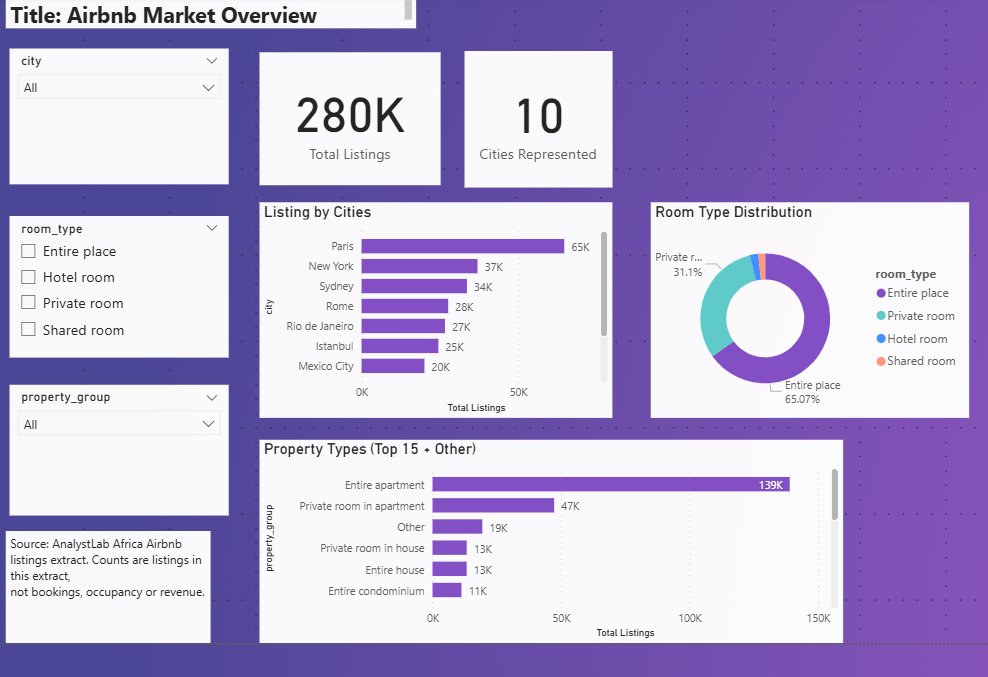

Layout of this report page (visuals, bound fields, positions):
{"tool":"powerbi","page":{"name":"Market Overview","canvas":[1280,720],"ordinal":1},"visuals":[{"type":"textbox","box":[9.6,0,456.6,36.1],"z":0},{"type":"card","fields":{"Values":["dim_listing.Total Listings"]},"box":[292.2,63.1,201.7,148.2],"z":1000},{"type":"card","fields":{"Values":["dim_listing.Cities Represented"]},"box":[520,61.7,164.6,152.3],"z":2000},{"type":"slicer","fields":{"Values":["dim_city.city"]},"box":[13.7,59,244.2,150.9],"z":3000},{"type":"slicer","fields":{"Values":["dim_listing.room_type"]},"box":[13.7,244.2,244.2,157.8],"z":4000},{"type":"slicer","fields":{"Values":["dim_listing.property_group"]},"box":[13.7,432.2,244.2,145.4],"z":5000},{"type":"clusteredBarChart","title":"Listing by Cities","fields":{"Category":["dim_city.city"],"Y":["dim_listing.Total Listings"]},"box":[291.6,228.9,392.8,239.8],"z":6000},{"type":"donutChart","title":"Room Type Distribution","fields":{"Category":["dim_listing.room_type"],"Y":["dim_listing.Total Listings"]},"box":[727.7,228.9,354.2,239.8],"z":7000},{"type":"clusteredBarChart","title":"Property Types (Top 15 + Other)","fields":{"Category":["dim_listing.property_group"],"Y":["dim_listing.Total Listings"]},"box":[291.6,494,649.4,226.5],"z":8000},{"type":"textbox","box":[9.6,595.4,227.7,124.8],"z":9000}]}

Visuals, with their boxes on the page's 1280x720 design canvas (x1, y1, x2, y2). These are canvas units, not pixel positions in the 988x677 screenshot, which may show the page scaled, cropped or inside an application window:
textbox: <region>10, 0, 466, 36</region>
card - dim_listing.Total Listings: <region>292, 63, 494, 211</region>
card - dim_listing.Cities Represented: <region>520, 62, 685, 214</region>
slicer - dim_city.city: <region>14, 59, 258, 210</region>
slicer - dim_listing.room_type: <region>14, 244, 258, 402</region>
slicer - dim_listing.property_group: <region>14, 432, 258, 578</region>
"Listing by Cities" clusteredBarChart: <region>292, 229, 684, 469</region>
"Room Type Distribution" donutChart: <region>728, 229, 1082, 469</region>
"Property Types (Top 15 + Other)" clusteredBarChart: <region>292, 494, 941, 720</region>
textbox: <region>10, 595, 237, 720</region>
